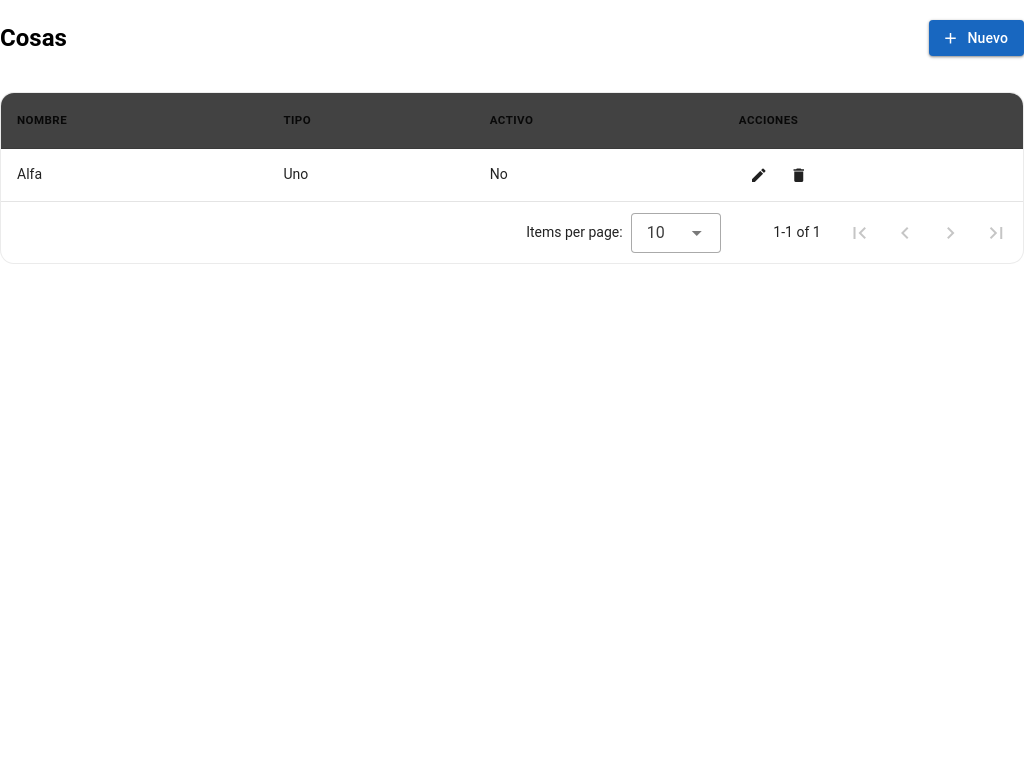
CrudView › elimina tras confirmar y muestra el error del servidor si falla
Click the button with test id "eliminar".
click(799, 175)  # box [779, 155, 819, 195]
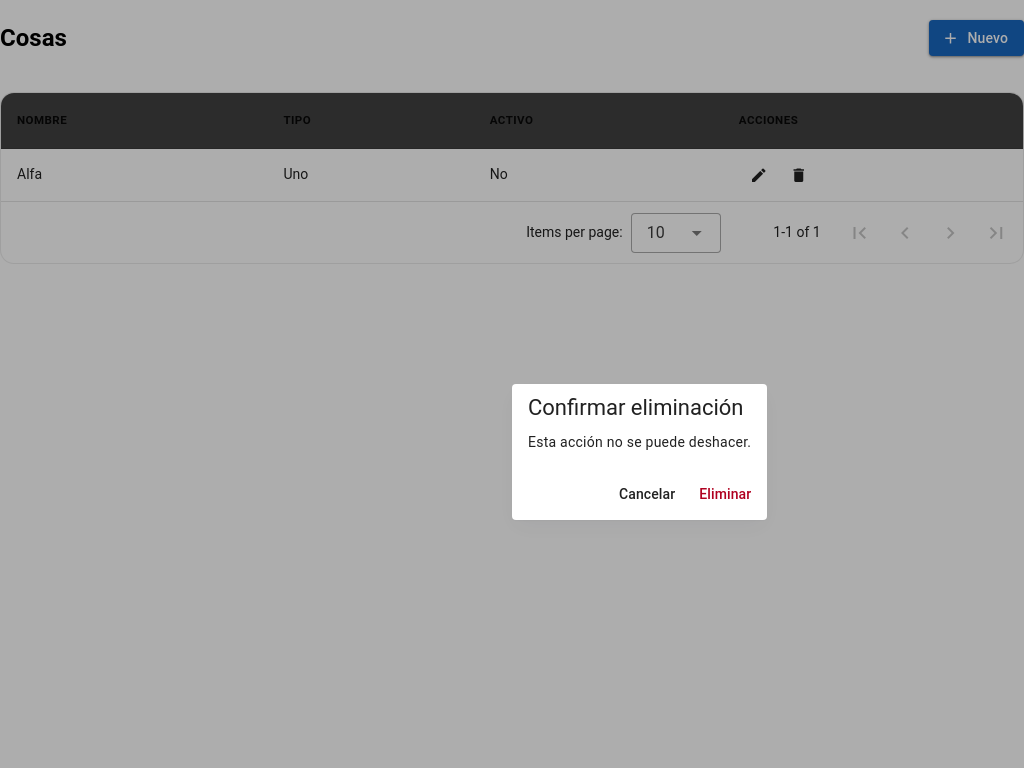
Click the button with test id "confirmar-eliminar".
click(725, 494)  # box [691, 476, 759, 512]
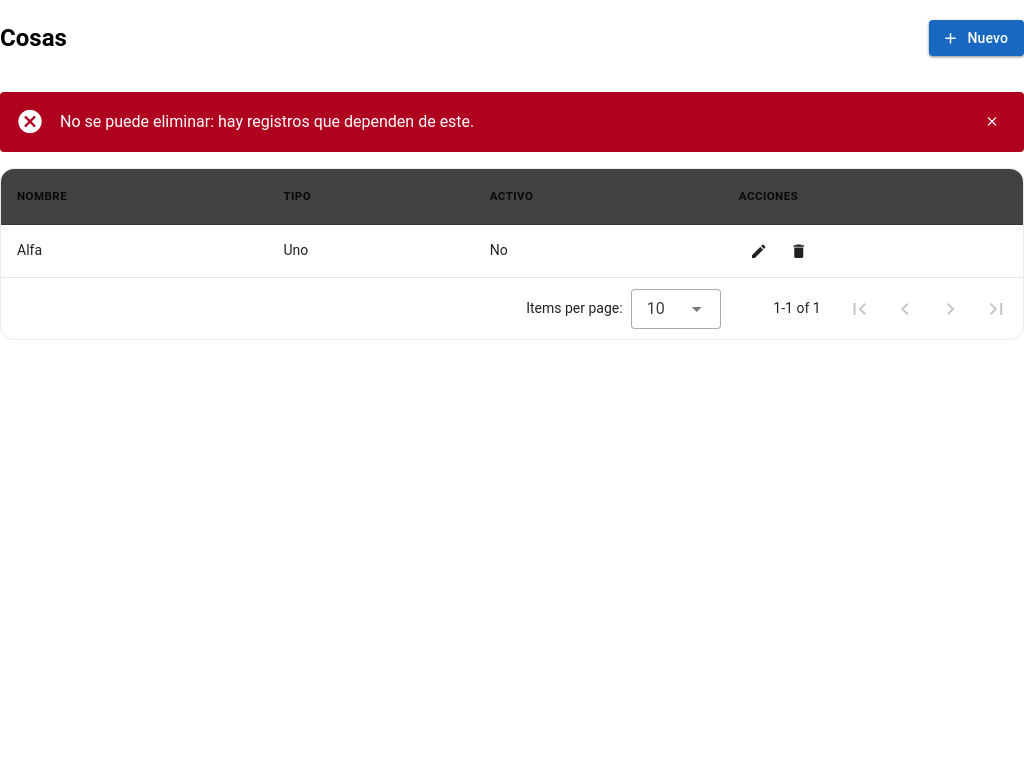
Expected: the text "No se puede eliminar" is shown, [60, 112, 474, 131]
